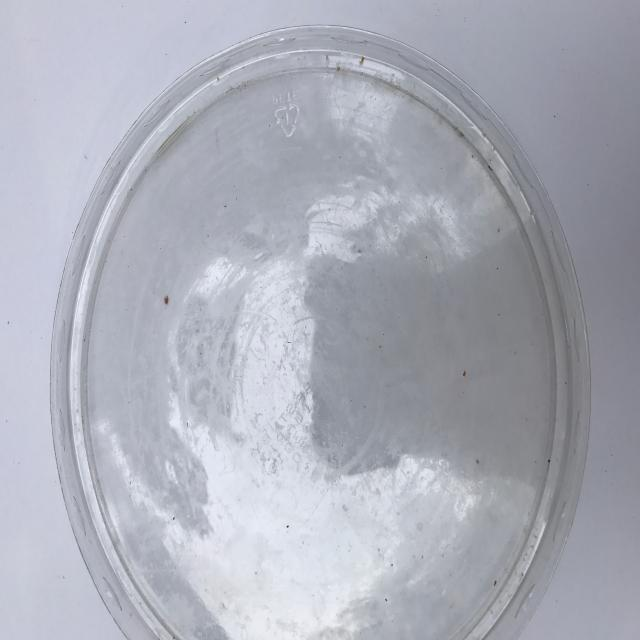plastic: (49, 24, 592, 639)
